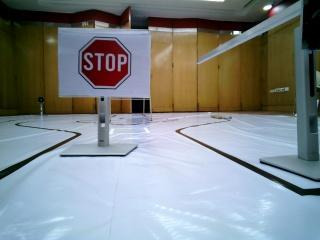stop: (61, 24, 148, 101)
